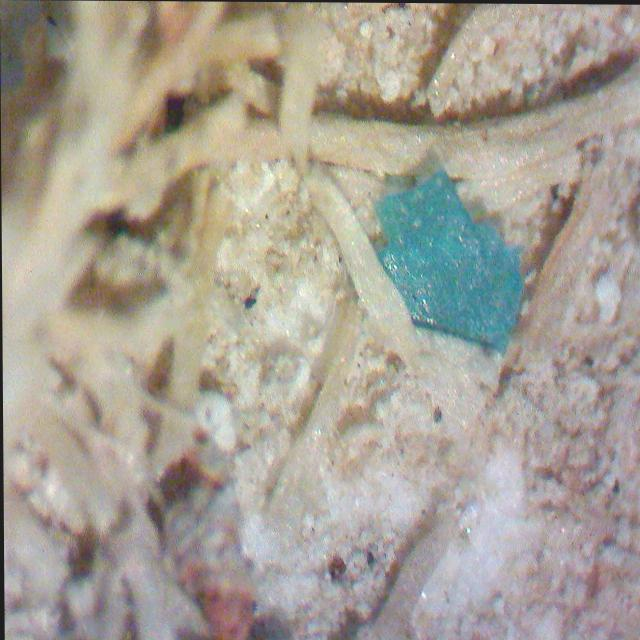microplastic: (370, 166, 523, 353)
